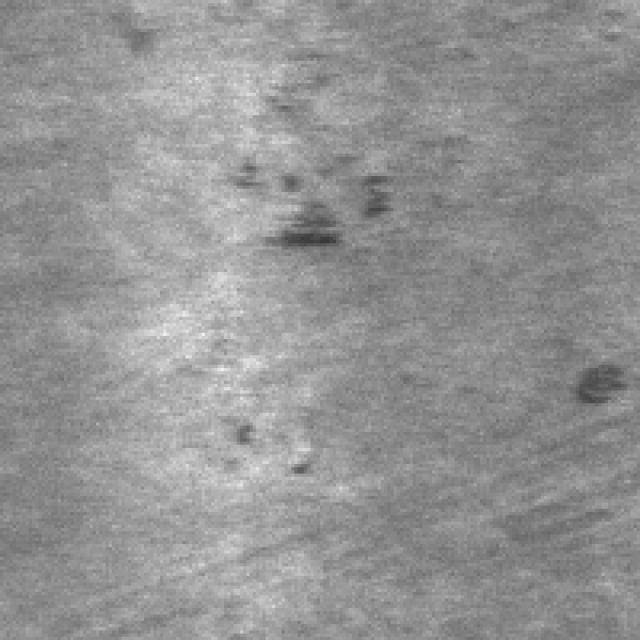rolled-in_scale: (218, 77, 396, 253)
